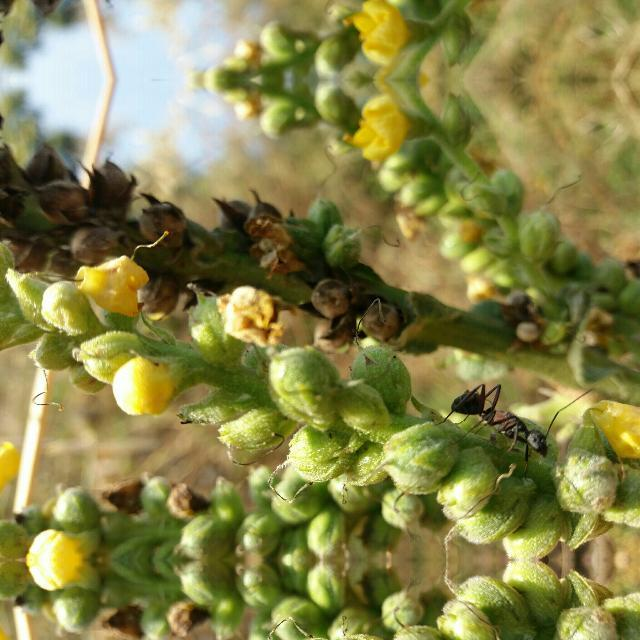Camponotus: (437, 374, 569, 464)
